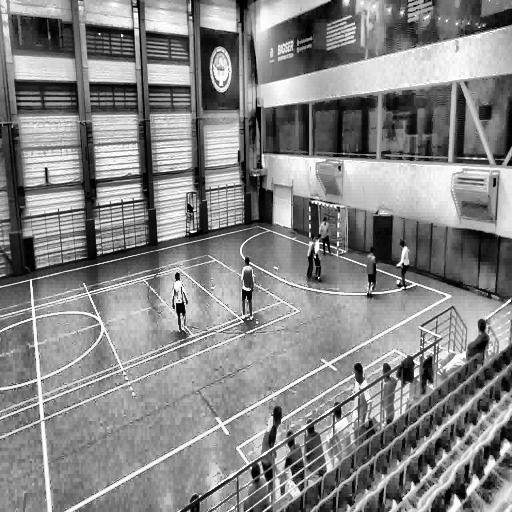ball: (396, 276, 402, 288)
player: (171, 269, 188, 335), (240, 255, 254, 321), (395, 239, 410, 290), (318, 216, 332, 256), (313, 233, 324, 283), (366, 246, 376, 297), (306, 233, 316, 282)
